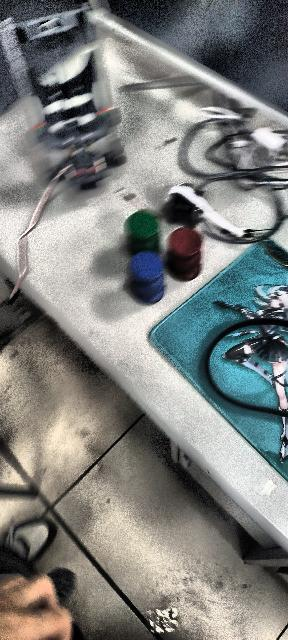blue: (129, 250, 165, 302)
green: (126, 211, 163, 257)
red: (166, 226, 206, 285)
